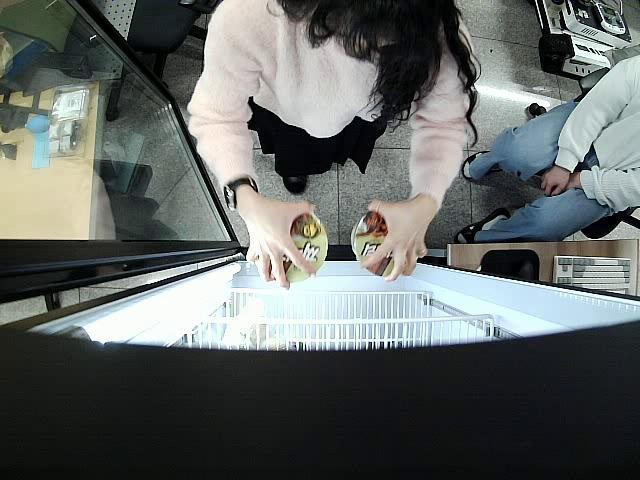03_chapagetti_L: (258, 214, 329, 282), (352, 212, 413, 276)
